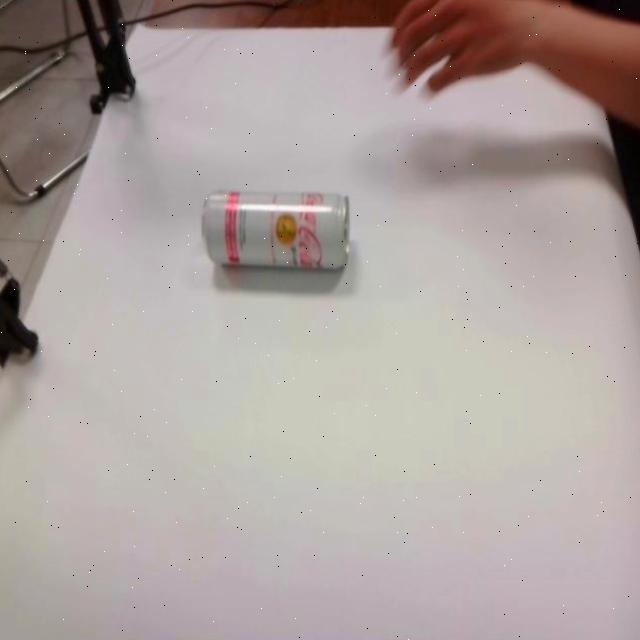debris: (200, 188, 351, 275)
